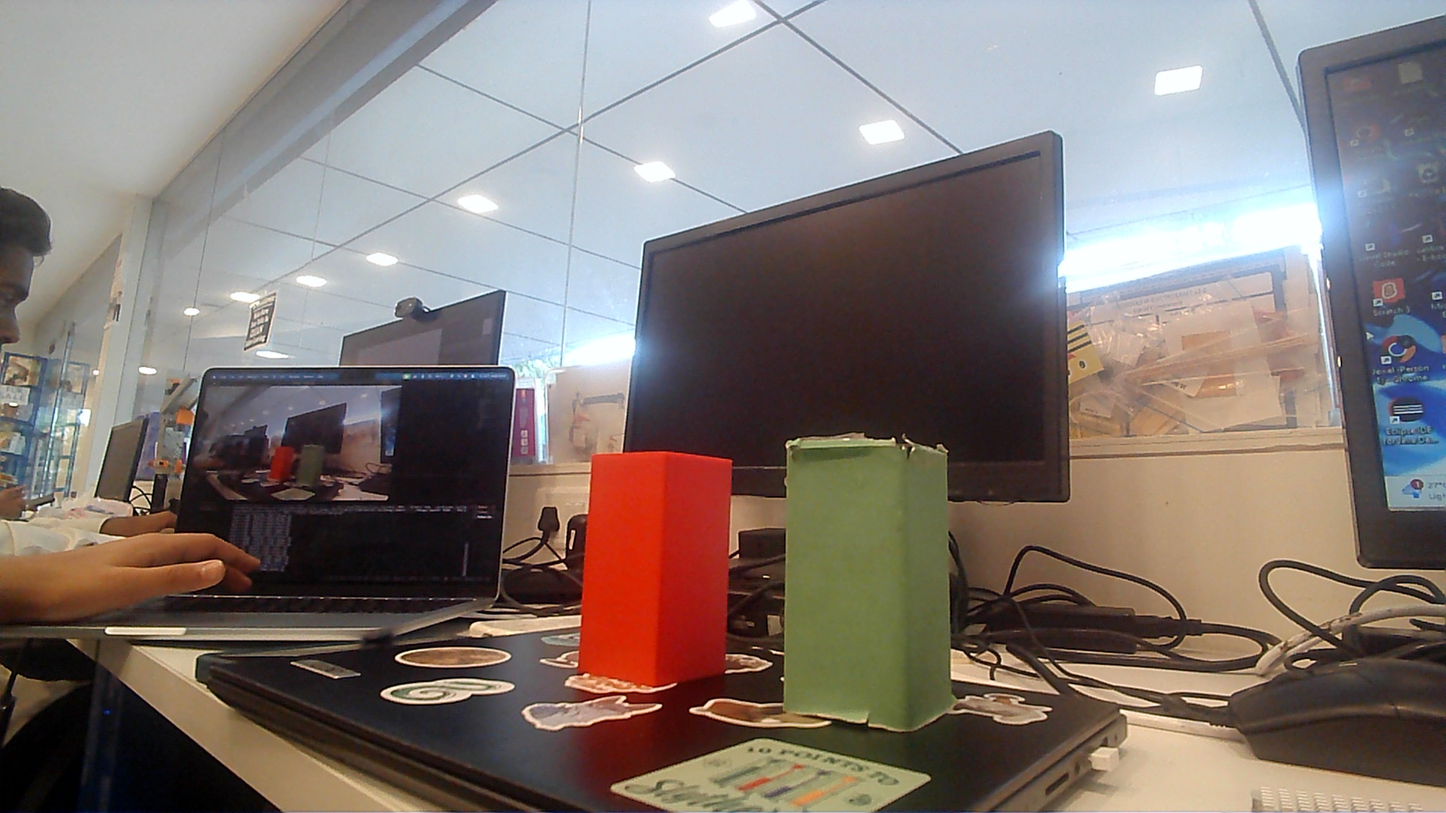red: (573, 441, 741, 694)
